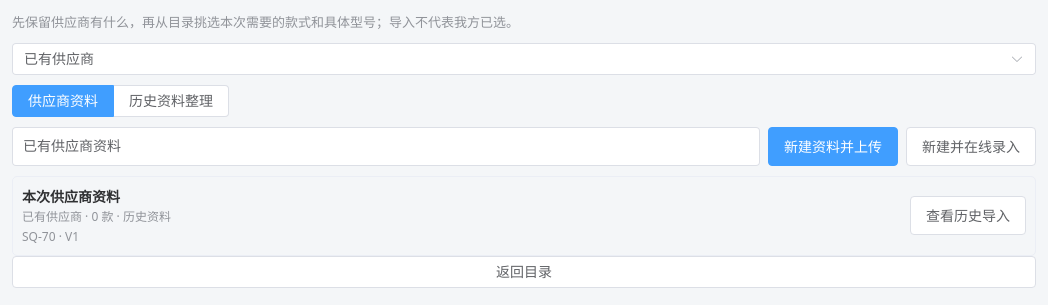
supplier source entry reuses the existing import workflow › loads source detail before resuming and preserves a marked historical source as readonly with original downloads
Click the button "查看历史导入" at (968, 216), box x1=910 y1=196 x2=1026 y2=235
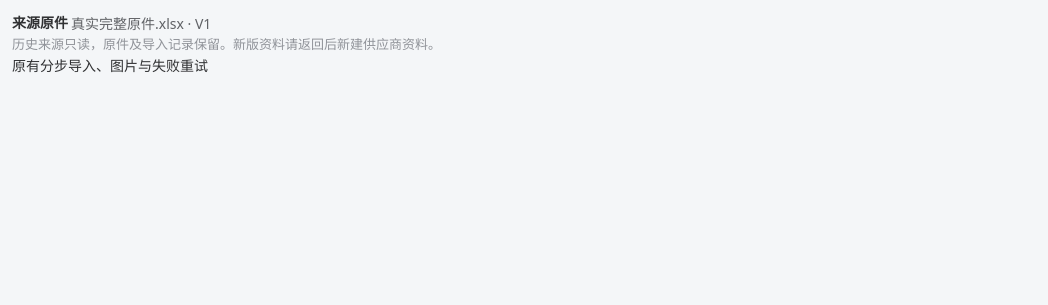
Result: the text "历史来源只读" is shown at x1=12 y1=35 x2=441 y2=53
Result: the text "真实完整原件.xlsx" is shown at x1=71 y1=14 x2=211 y2=33
